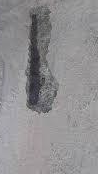Exposed reinforcement: (28, 14, 41, 105)
Spalling: (25, 3, 59, 114)
